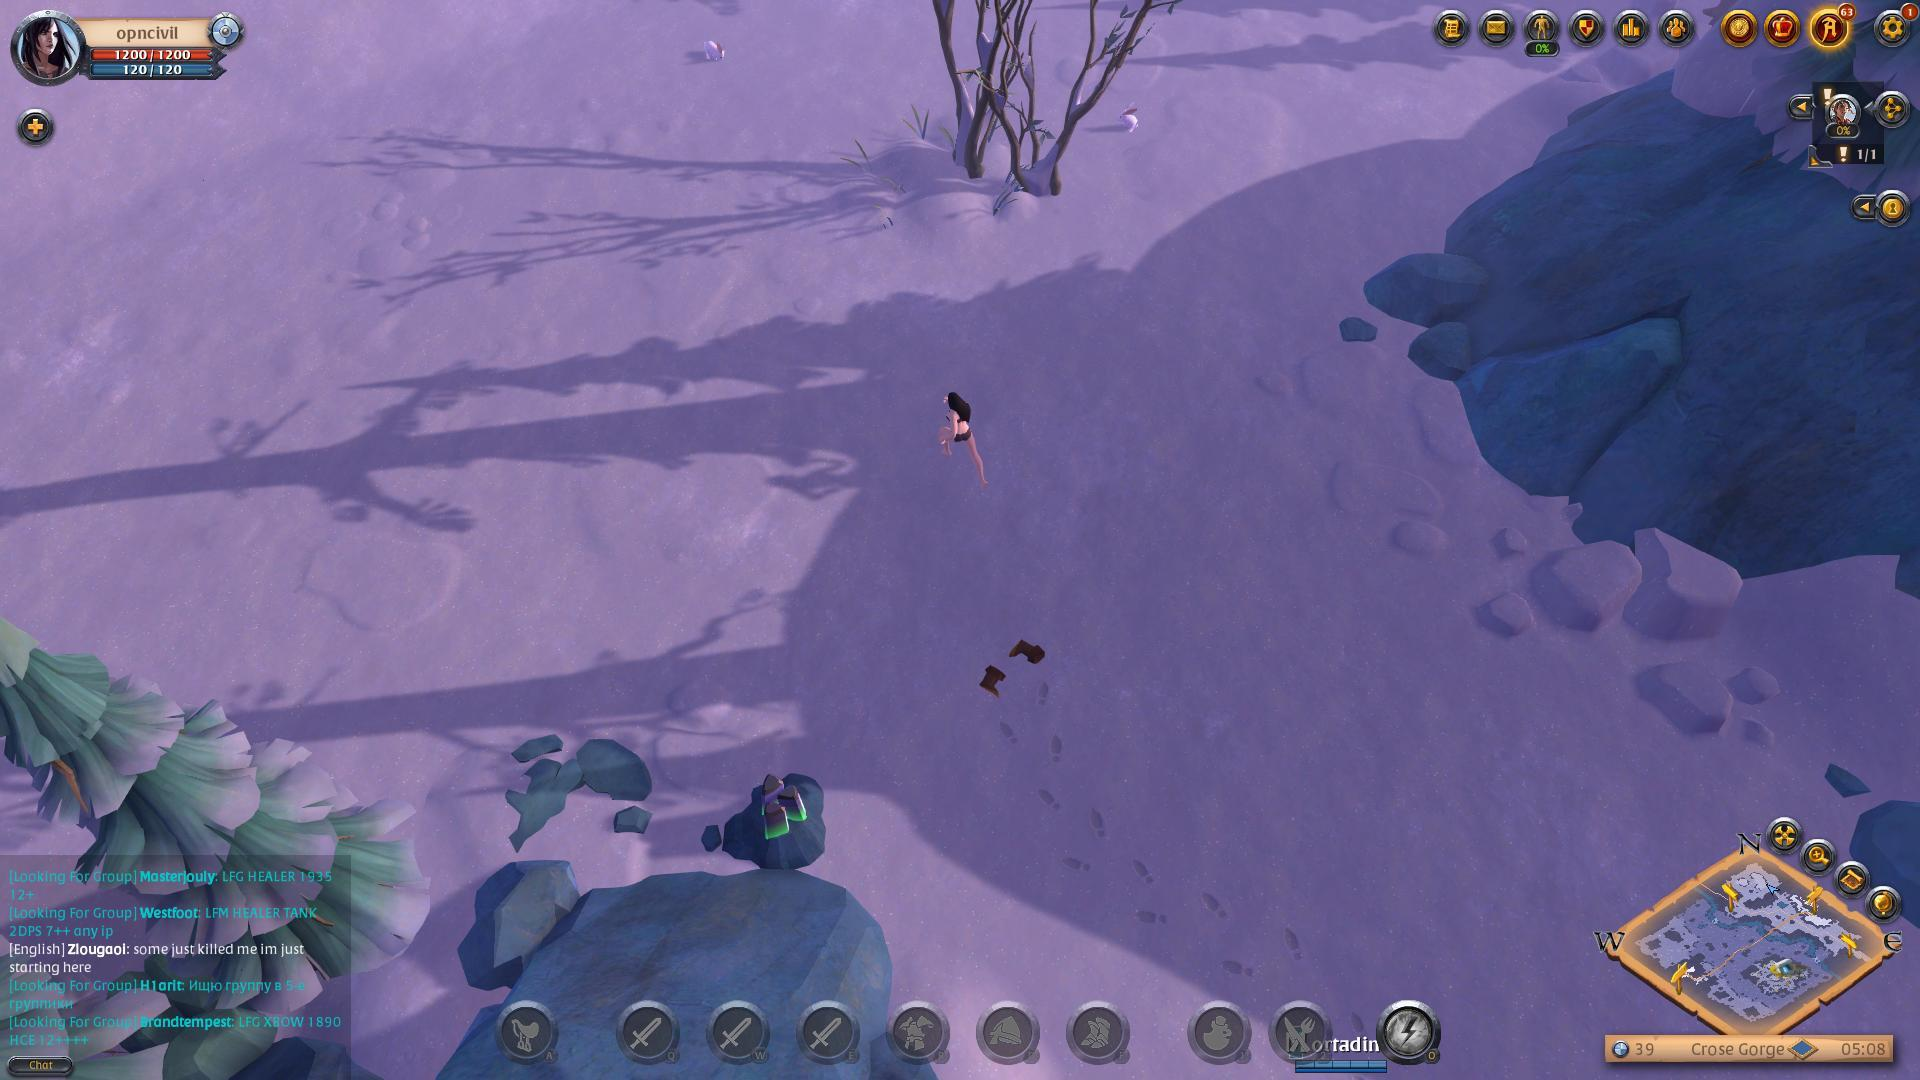tin_ore: (719, 765, 837, 876)
